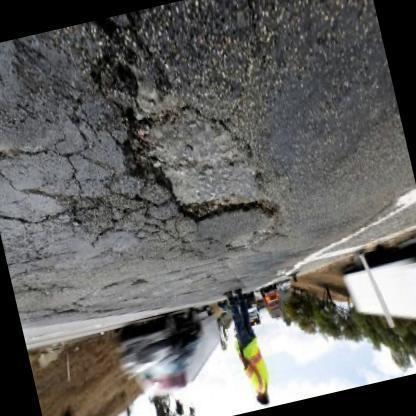pothole: (86, 22, 288, 222)
